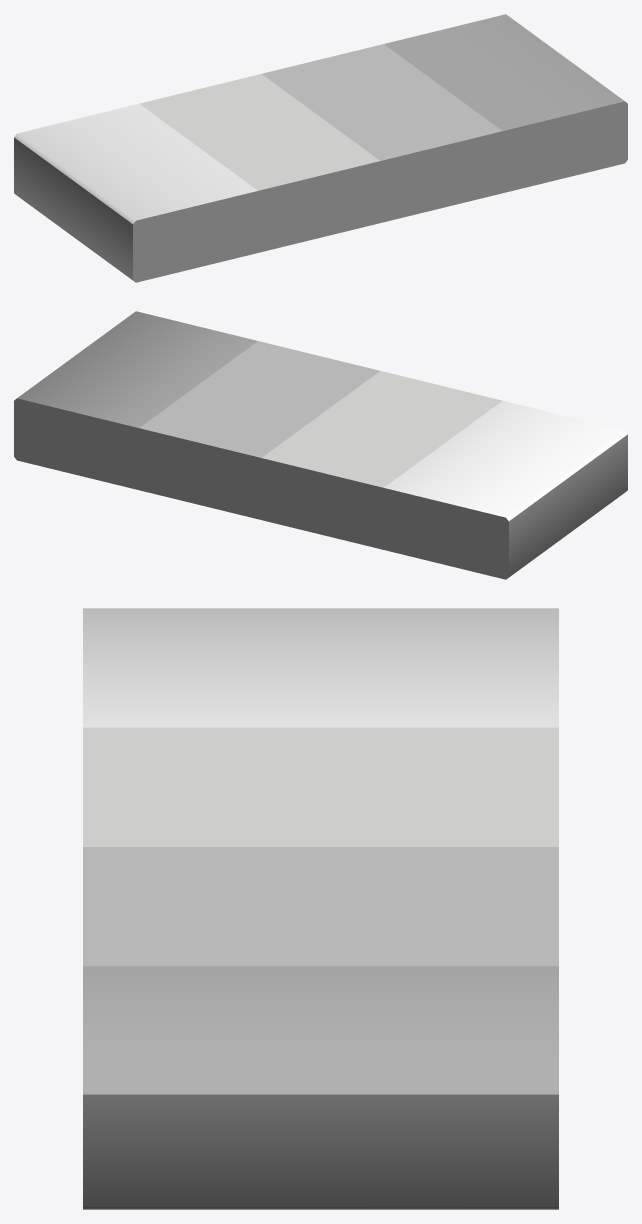
File: road05.FBX
The picture shows the model from 3 angles, top to bottom: view 1: azimuth 30°, elevation 25°; view 2: azimuth 150°, elevation 25°; view 3: azimuth 270°, elevation 25°; orthographic projection. The views are drawn at different scales.
Visible parts, largest first — view 1: road05; view 2: road05; view 3: road05.
Boxes of the visible parts, left/top/right/bottom form: road05: left=14, top=14, right=627, bottom=282; road05: left=14, top=311, right=627, bottom=579; road05: left=83, top=608, right=558, bottom=1209.
Size of the model in its own units: 12 by 1.44 by 5.
Materials: 1 (1 with a texture image).
